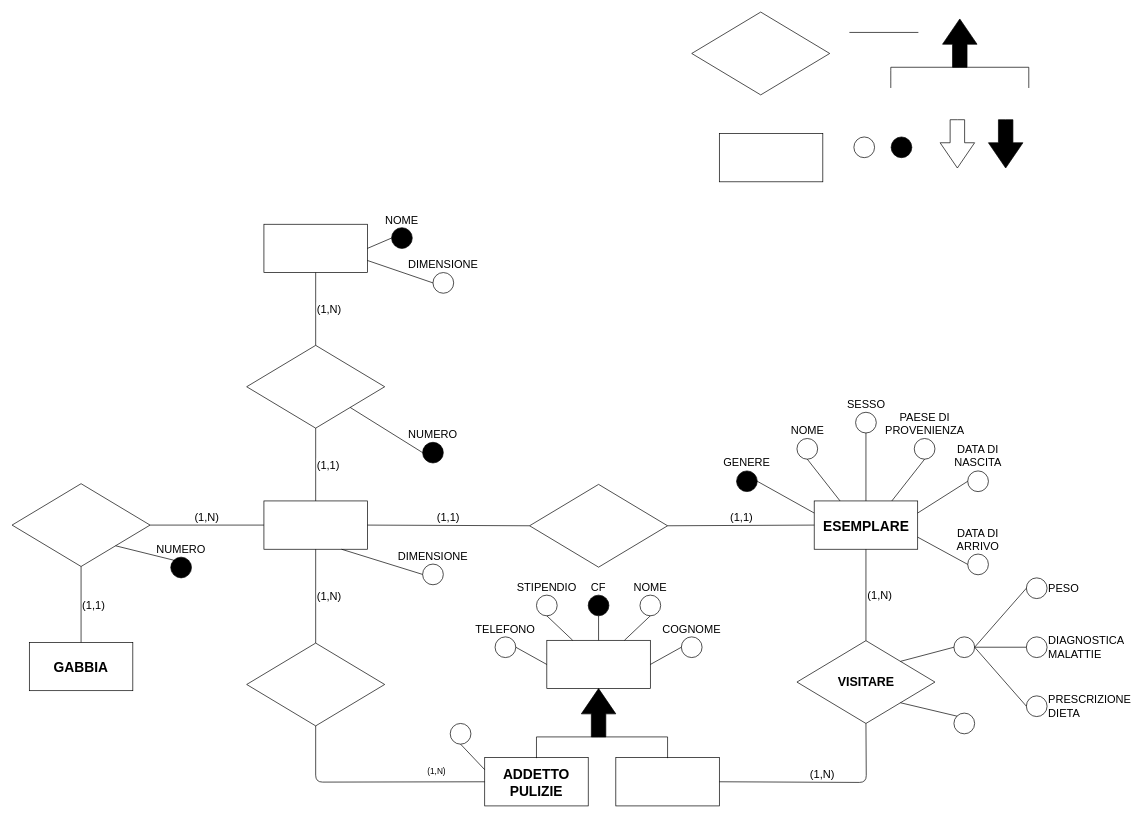
Image size: 1143x818. Some labels were removed from this diagram. Here are the shapes that lost their labels. From the top down, the box of each, then its label:
(263, 224, 367, 273): AREA
(246, 345, 385, 428): APPARTIENE A
(11, 483, 150, 566): CONTIENE
(263, 500, 367, 549): ABITAZIONE
(529, 484, 668, 567): ASSEGNATA A
(546, 640, 650, 689): DIPENDENTE
(953, 636, 975, 658): RISULTATI VISITA
(246, 642, 385, 726): PULIRE
(450, 723, 471, 744): TURNO DI PULIZIA
(953, 712, 975, 734): DATA
(615, 757, 719, 806): VETERINARIO
